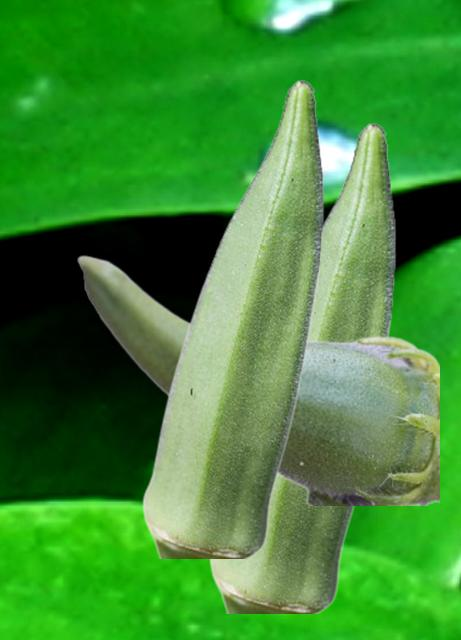okra: (209, 122, 395, 612), (76, 254, 438, 504), (142, 79, 323, 557)
